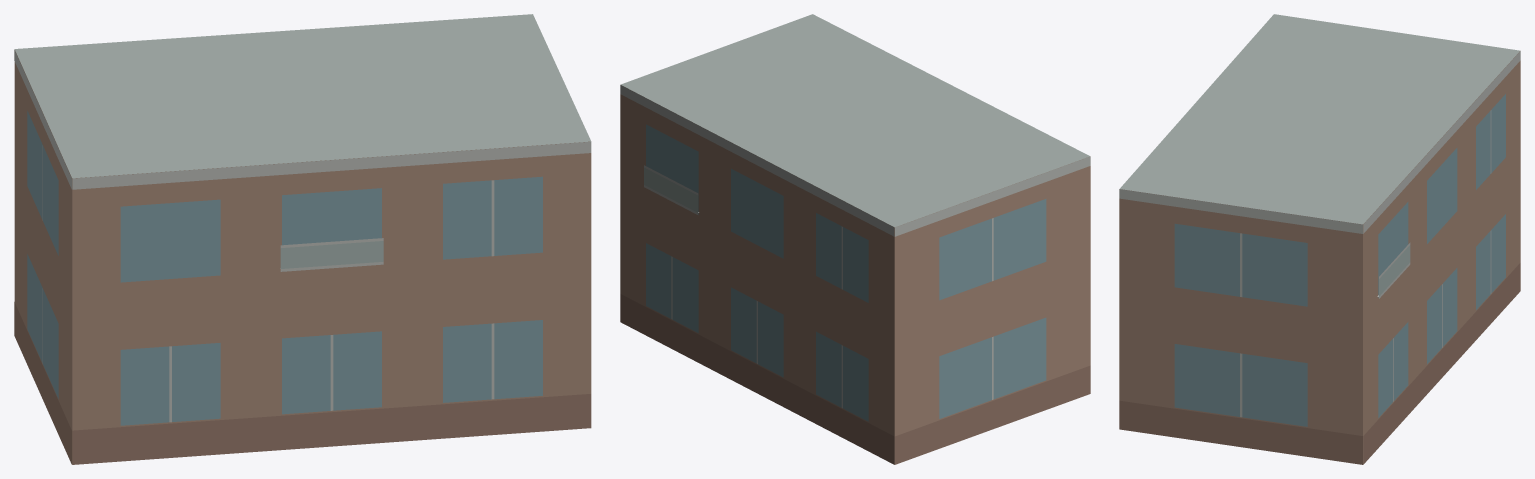
The model's file is survey-upis-32556887.glb.
3 views of the same model, side by side, from view 1: azimuth 30°, elevation 25°; view 2: azimuth 150°, elevation 25°; view 3: azimuth 270°, elevation 25° (orthographic). The views are drawn at different scales.
Parts seen in each view (by area): view 1: survey-upis-32556887.tmp; view 2: survey-upis-32556887.tmp; view 3: survey-upis-32556887.tmp.
Part boxes in pixels (left/top/right/bottom): survey-upis-32556887.tmp: left=14, top=14, right=591, bottom=464; survey-upis-32556887.tmp: left=620, top=14, right=1090, bottom=464; survey-upis-32556887.tmp: left=1119, top=14, right=1520, bottom=464.
Size of the model in its own units: 11.46 by 6.1 by 9.24.
